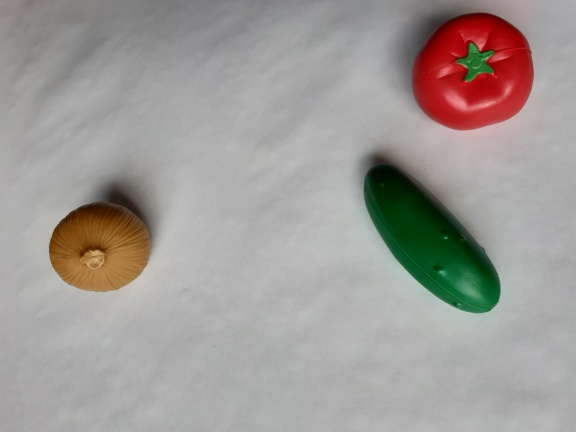cucumber: (348, 157, 508, 323)
onion: (35, 192, 161, 300)
tomato: (406, 9, 542, 138)
